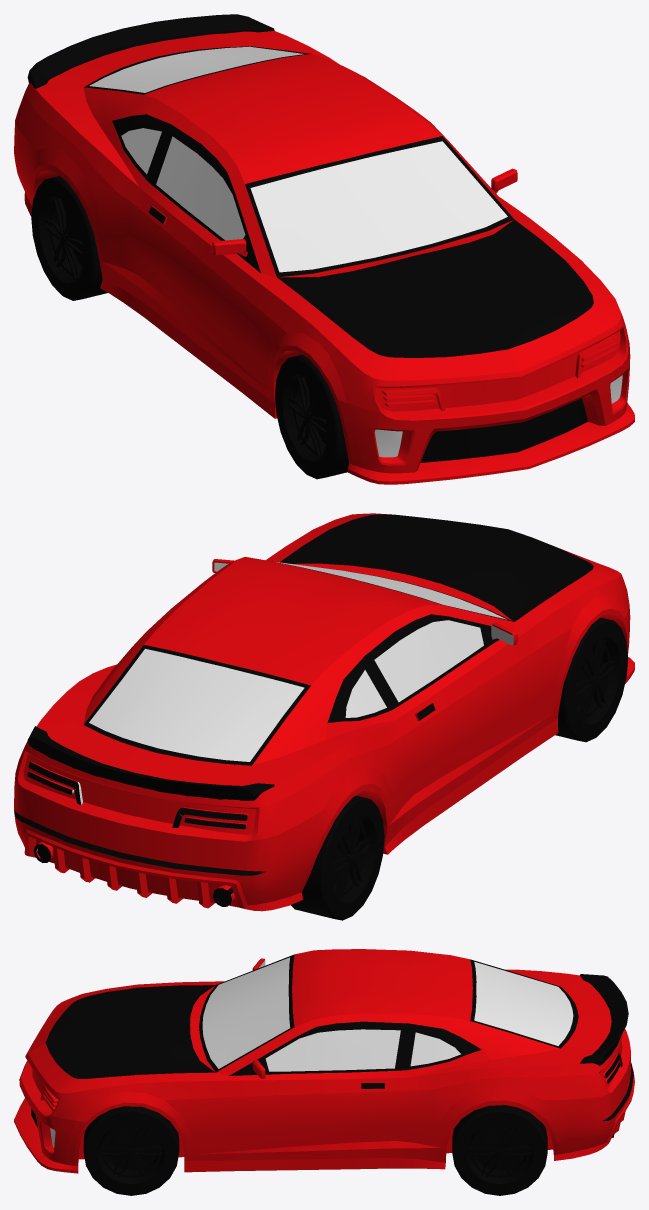
Rendered from redcar.fbx.
3 views of the same model, one above another, from view 1: azimuth 30°, elevation 25°; view 2: azimuth 150°, elevation 25°; view 3: azimuth 270°, elevation 25° (orthographic). The views are drawn at different scales.
Parts seen in each view (by area): view 1: Body, FrontRightWheel, RearRightWheel, Spoiler; view 2: Body, RearRightWheel, FrontRightWheel, Spoiler; view 3: Body, RearLeftWheel, FrontLeftWheel, Spoiler.
Boxes of the visible parts, x1,y1,x2,y2 form: Body: [14, 31, 634, 484]; FrontRightWheel: [275, 354, 348, 479]; RearRightWheel: [31, 176, 107, 300]; Spoiler: [27, 14, 274, 88]; Body: [14, 513, 634, 911]; RearRightWheel: [291, 795, 384, 920]; FrontRightWheel: [555, 617, 627, 742]; Spoiler: [27, 726, 274, 800]; Body: [14, 949, 634, 1173]; RearLeftWheel: [452, 1105, 547, 1195]; FrontLeftWheel: [83, 1106, 179, 1195]; Spoiler: [580, 974, 628, 1065].
Size of the model in its own units: 293 by 199 by 685.
